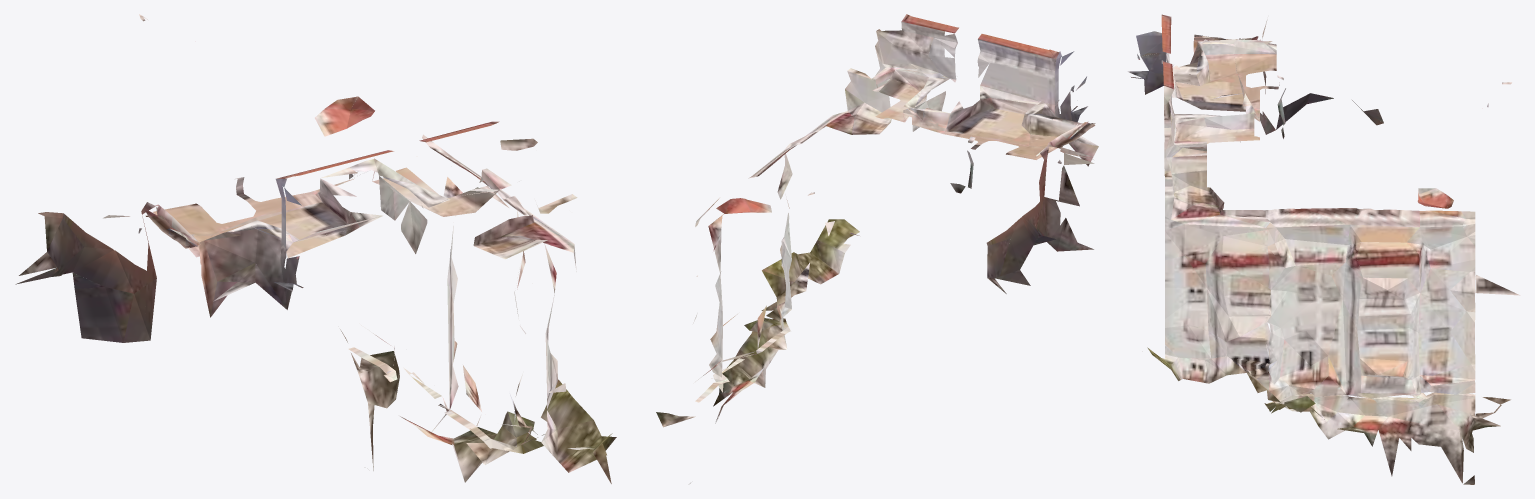
The model's file is hausschnitt.glb.
3 views of the same model, side by side, from view 1: azimuth 30°, elevation 25°; view 2: azimuth 150°, elevation 25°; view 3: azimuth 270°, elevation 25° (orthographic). The views are drawn at different scales.
Parts seen in each view (by area): view 1: haus0.001, haus1.001; view 2: haus0.001, haus1.001; view 3: haus0.001, haus1.001.
Boxes of the visible parts, <box> form: haus0.001: <box>15,14,616,483</box>; haus1.001: <box>340,329,543,482</box>; haus0.001: <box>693,14,1098,381</box>; haus1.001: <box>656,318,790,483</box>; haus0.001: <box>1128,14,1520,412</box>; haus1.001: <box>1264,392,1510,484</box>.
Size of the model in its own units: 27.69 by 29.26 by 28.28.
3 materials, 3 textured.
